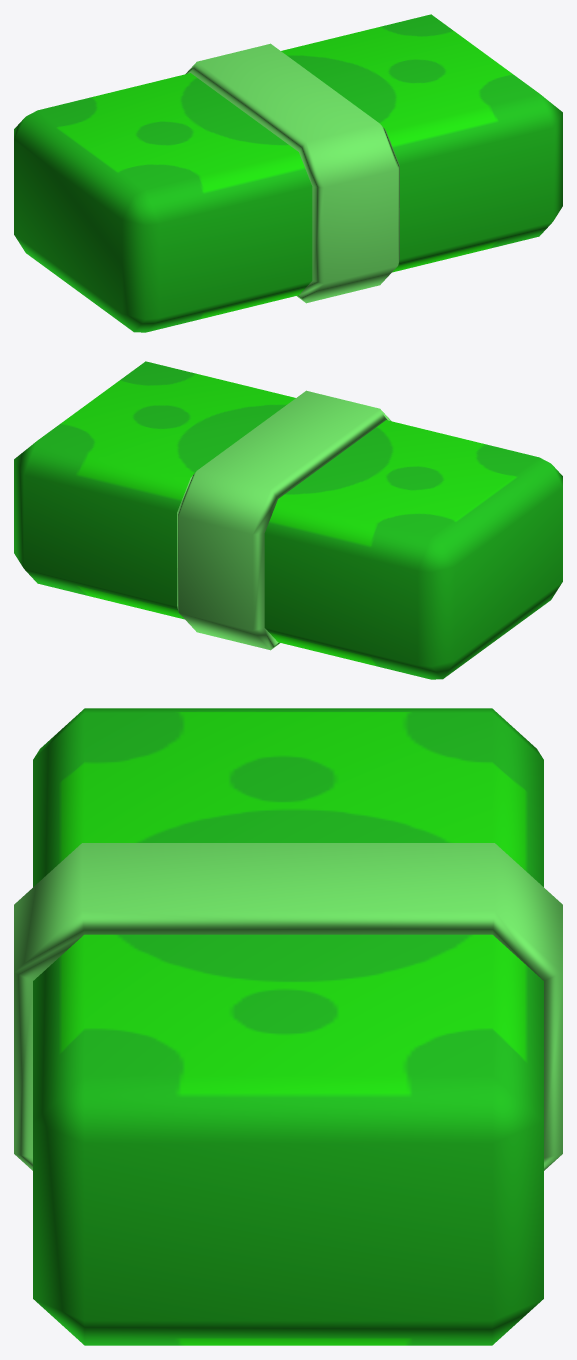
The model's file is money.fbx.
3 renders of one model, top to bottom at view 1: azimuth 30°, elevation 25°; view 2: azimuth 150°, elevation 25°; view 3: azimuth 270°, elevation 25°, orthographic. The views are drawn at different scales.
Visible parts, largest first — view 1: Cube.024; view 2: Cube.024; view 3: Cube.024.
Part boxes in pixels (x1,y1,x2,y2): Cube.024: [14, 14, 562, 332]; Cube.024: [14, 361, 562, 679]; Cube.024: [14, 708, 562, 1345].
Size of the model in its own units: 0.4016 by 0.1406 by 0.2296.
